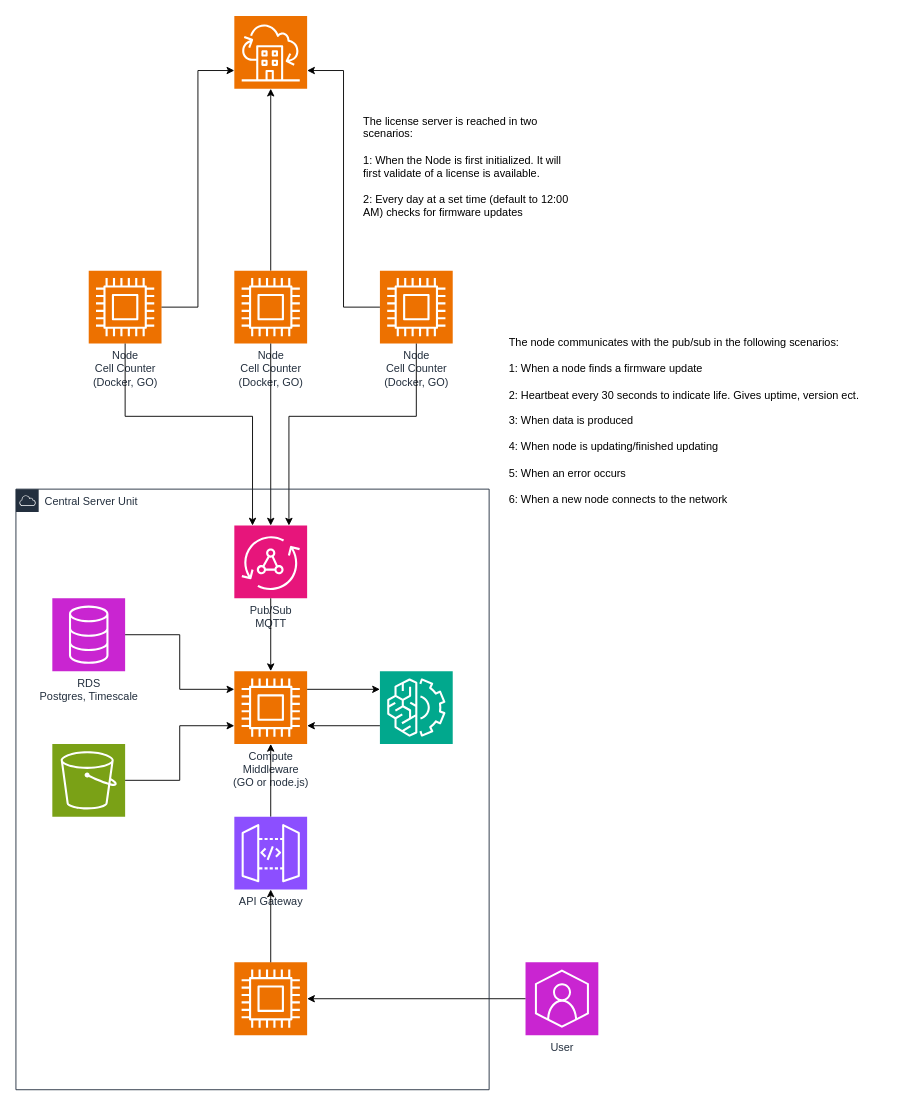
Some shapes in this 905 by 1106 pixel diagram are drawn without their labels. The centre of each missing label's shape, as x and y in pixels:
Compute Frontend (node.js): the point at 270,998
File Storage: the point at 88,780
GPU Compute (FastAPI, Python): the point at 416,707
License Server: the point at 270,52
